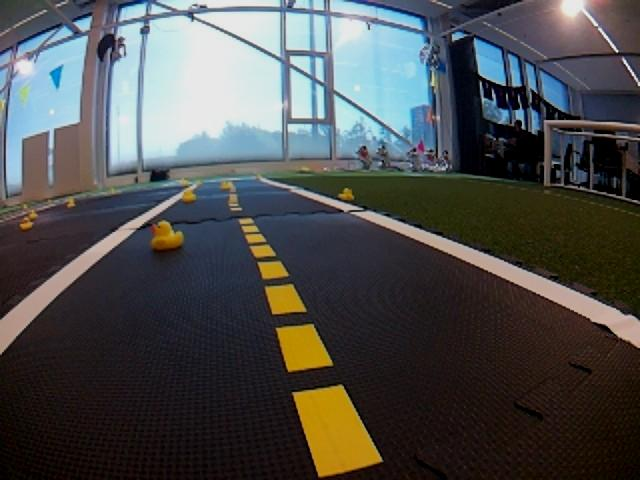Duckies: (152, 222, 185, 250), (182, 189, 197, 202), (19, 217, 34, 230), (338, 189, 353, 200), (220, 182, 233, 190), (28, 210, 38, 218), (67, 198, 75, 208), (110, 187, 116, 194), (183, 179, 189, 186), (196, 179, 203, 185), (256, 174, 262, 179)
